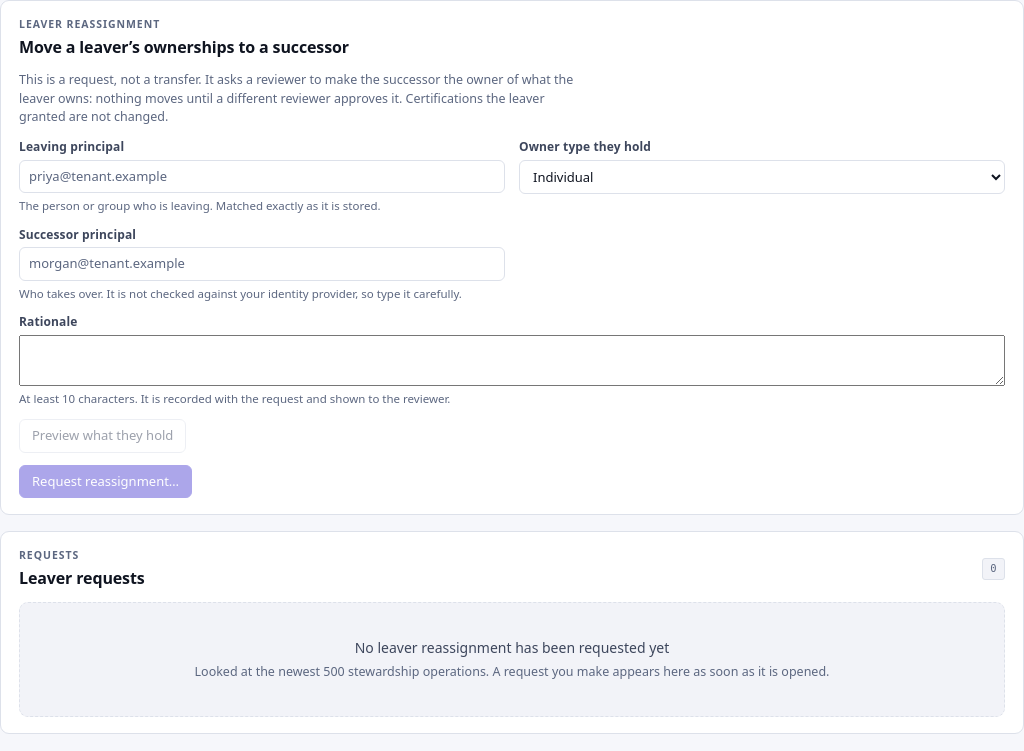
Test: Leaver reassignment: the preview › cannot be run until a leaver is named, then reads with the trimmed name and the owner type
Expected: the button "Request reassignment…" is shown, [19, 465, 192, 498]
Type "priya" into the field labelled "Leaving principal" at (262, 177), box [19, 160, 505, 193]
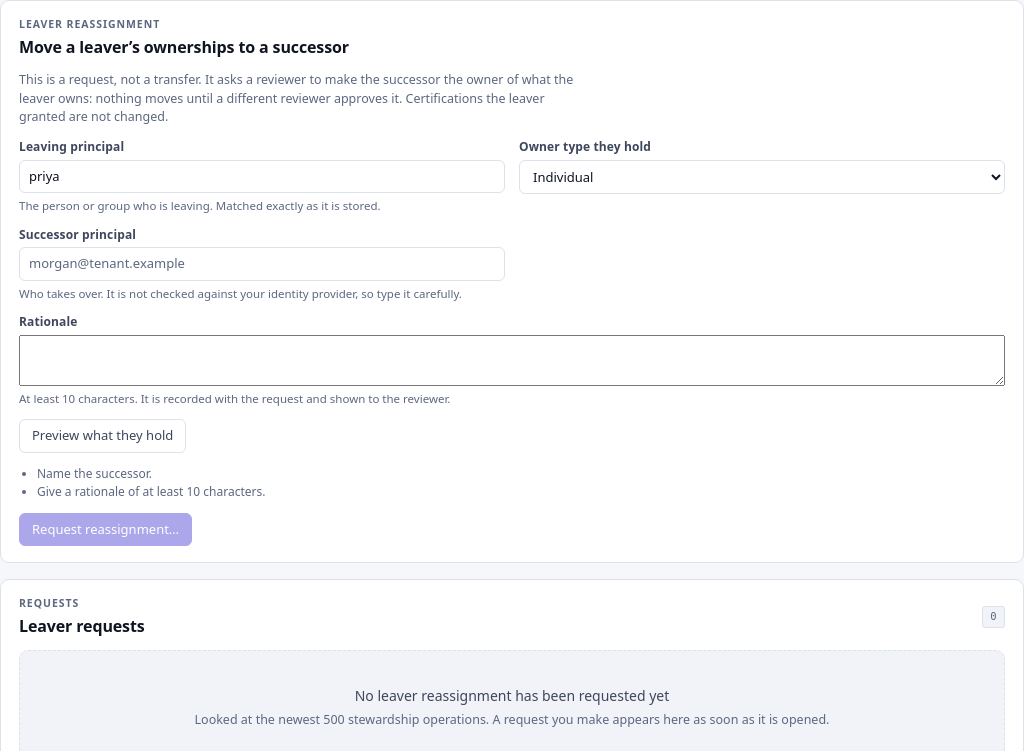
Type "morgan" into the field labelled "Successor principal" at (262, 264), box [19, 247, 505, 281]
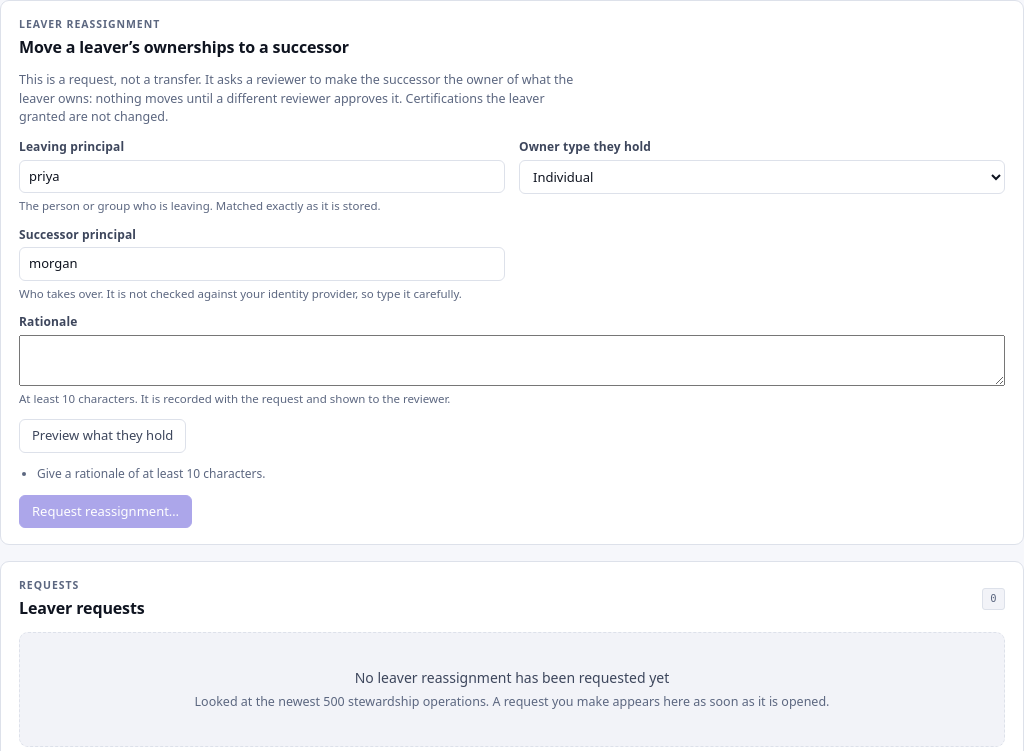
Type "Priya left the bank on 2026-09-18." into the text box labelled "Rationale" at (512, 360), box [19, 335, 1005, 386]
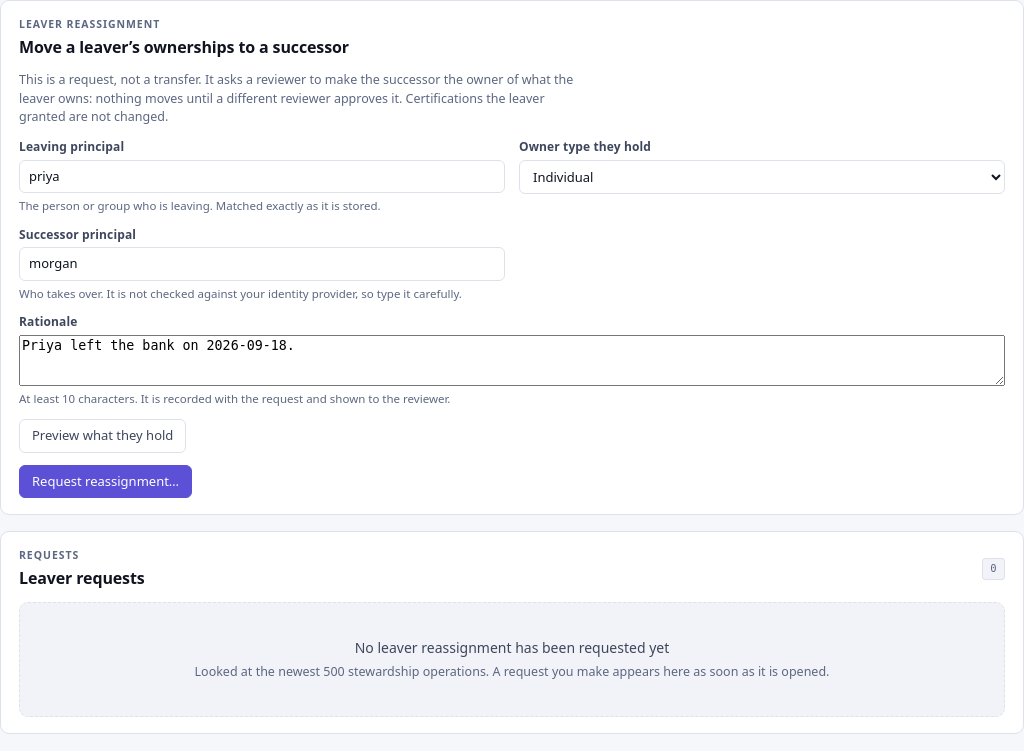
Clear the field labelled "Leaving principal" at (262, 177), box [19, 160, 505, 193]
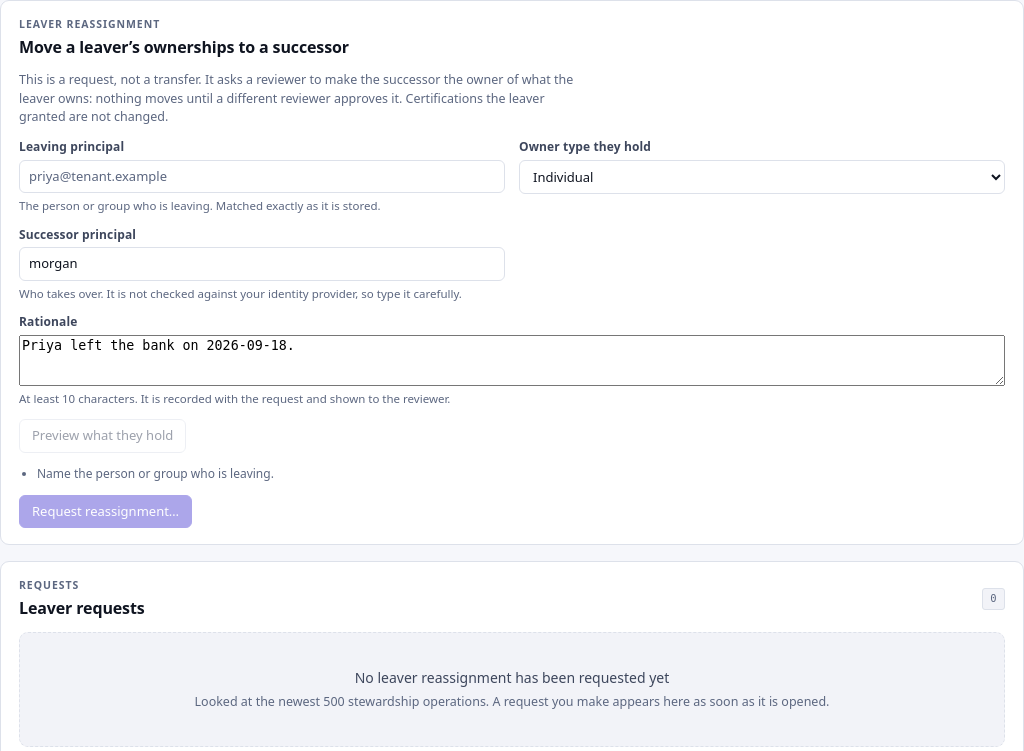
Expected: the button "Preview what they hold" is disabled, [19, 419, 186, 453]
Type "  priya  " into the field labelled "Leaving principal" at (262, 177), box [19, 160, 505, 193]
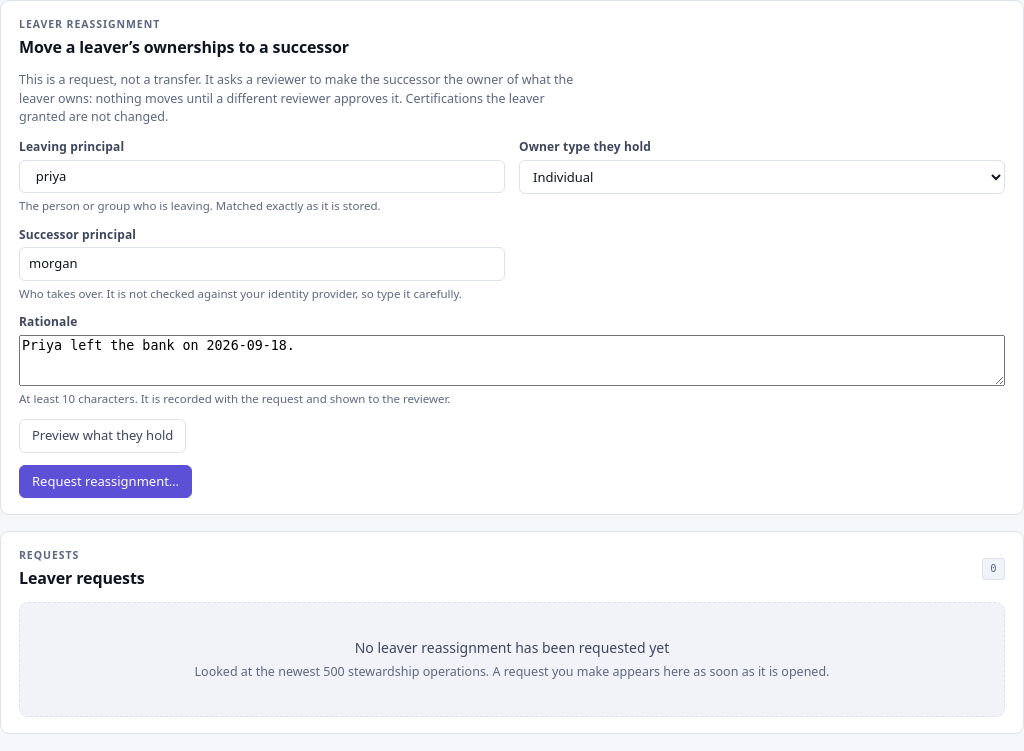
Select "Group" in the dropdown labelled "Owner type they hold" at (762, 177), box [519, 160, 1005, 194]
Click the button "Preview what they hold" at (103, 436), box [19, 419, 186, 453]
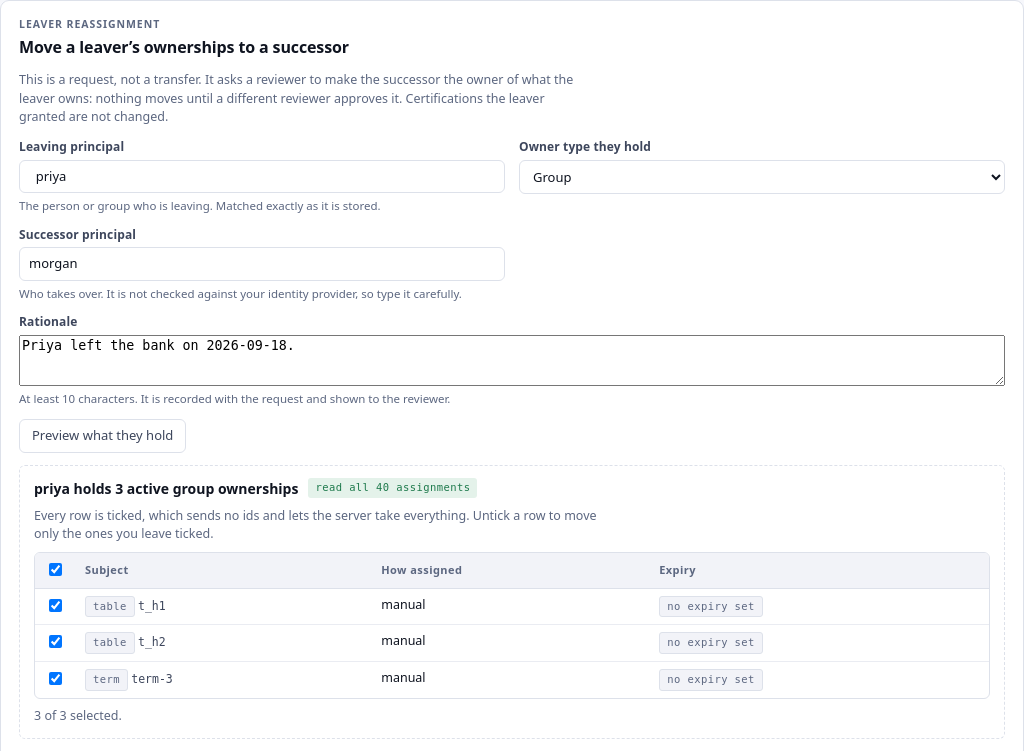
Expected: the element named "Preview of the leaver's ownerships" is shown, [19, 465, 1005, 739]
